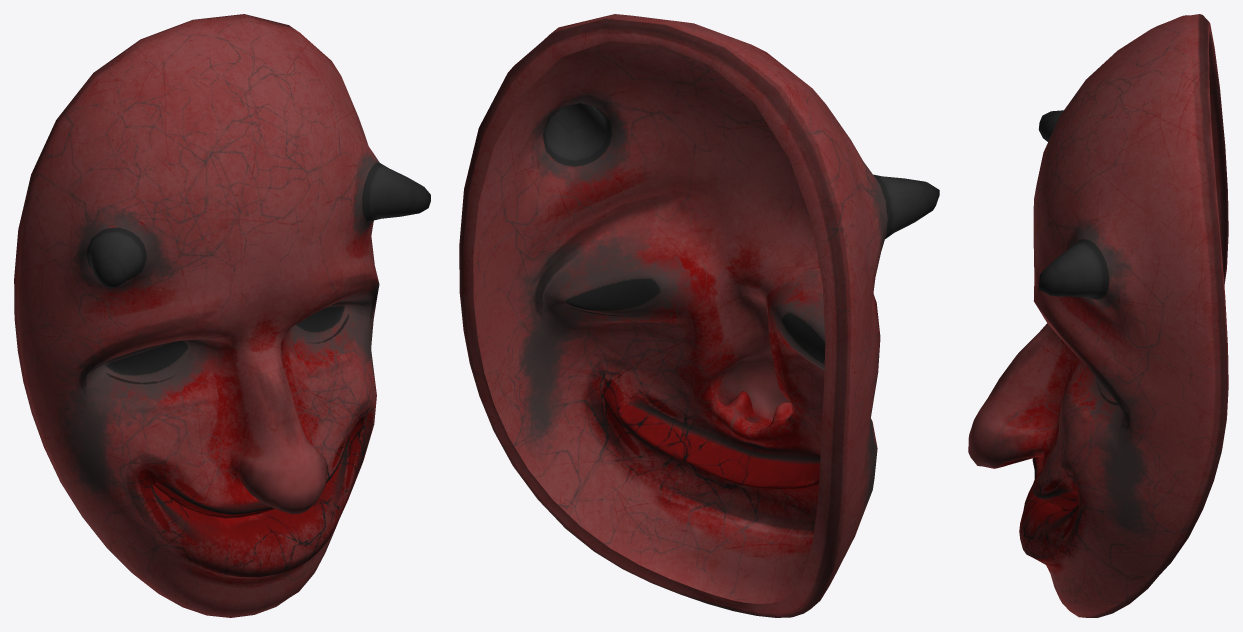
File: mask.glb
3 views of the same model, side by side, from view 1: azimuth 30°, elevation 25°; view 2: azimuth 150°, elevation 25°; view 3: azimuth 270°, elevation 25° (orthographic). The views are drawn at different scales.
Parts seen in each view (by area): view 1: LP; view 2: LP; view 3: LP.
Part boxes in pixels (x1,y1,x2,y2): LP: (14, 14, 430, 617); LP: (459, 14, 939, 617); LP: (968, 14, 1228, 617).
Bounding box in the file's own units: 3.19 × 4.98 × 2.06.
Materials: 1 (1 with a texture image).
